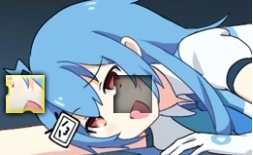gap: (113, 75, 152, 113)
